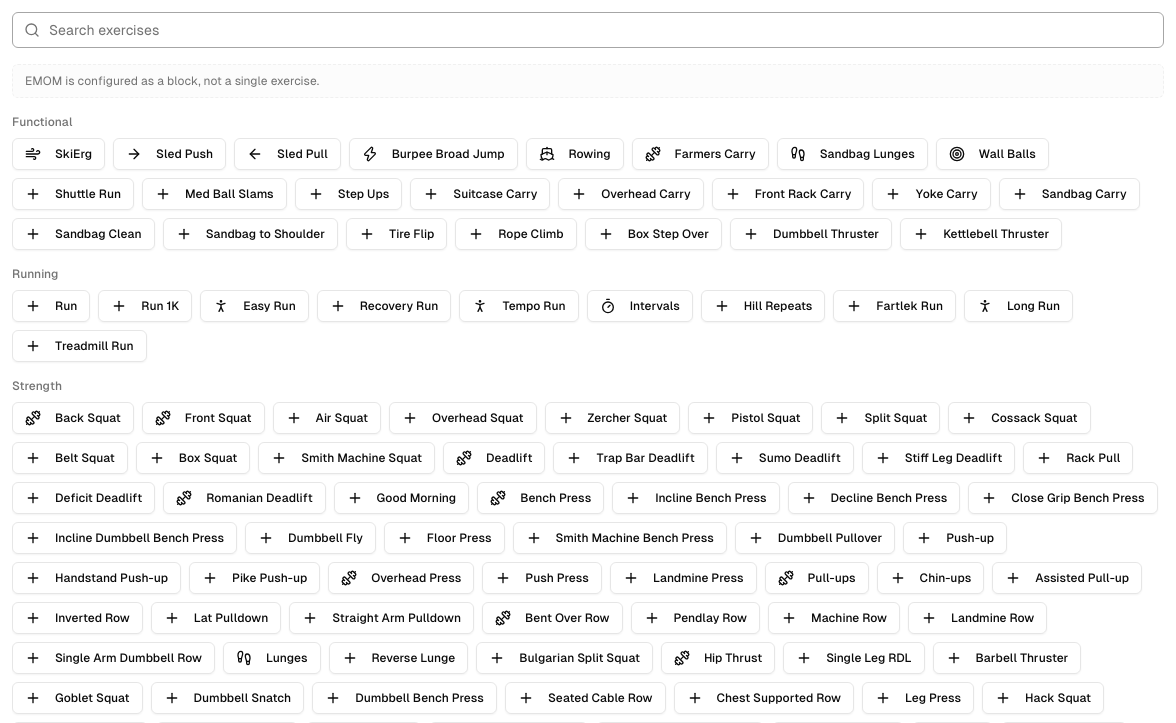
ExerciseSelector › clears search via the inline clear button
Step 1. Type "sled" into the search field labelled "Search exercises" → [588, 30], box [12,12,1164,48]
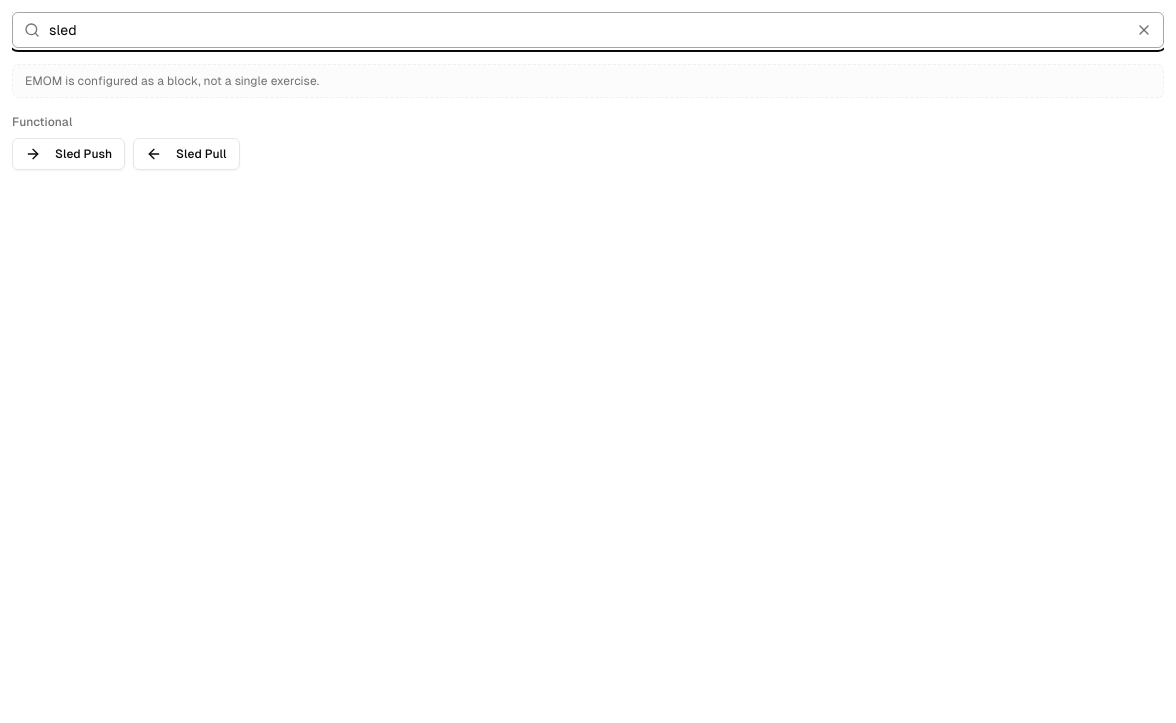
Result: the button with test id "exercise-selector-search-clear" is shown
Step 2. Click the button with test id "exercise-selector-search-clear" → [1144, 30], box [1136,22,1152,38]
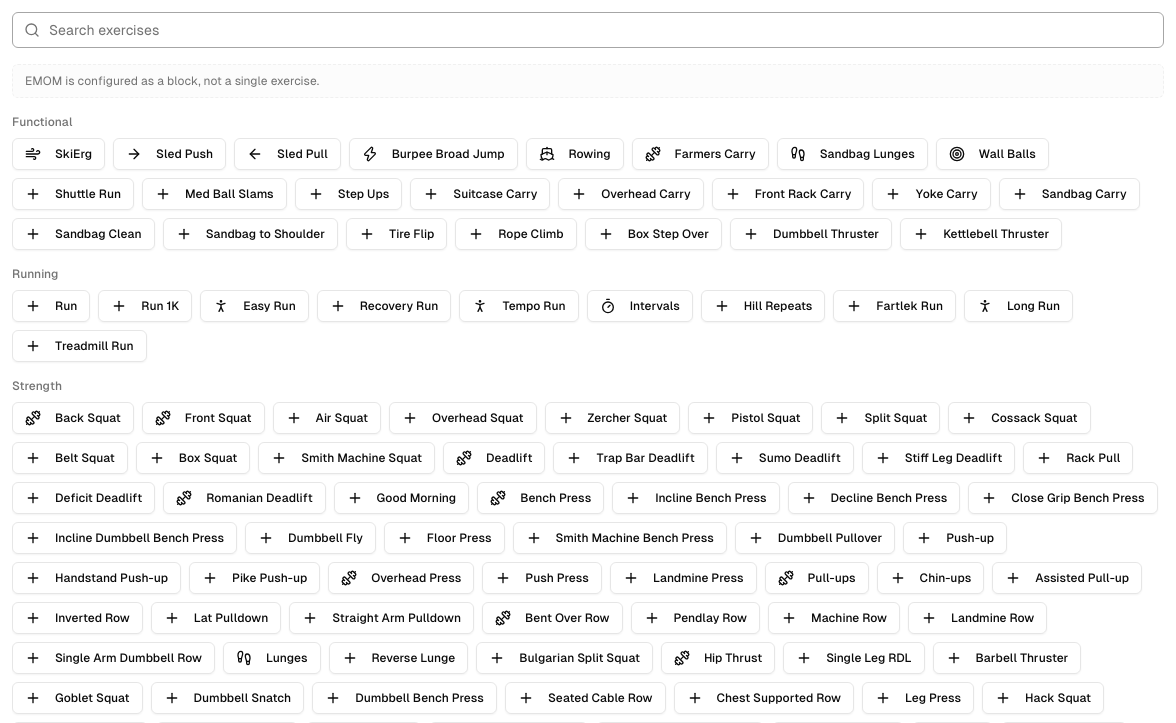
Result: the search field labelled "Search exercises" is empty at [12,12,1164,48]
Result: the button with test id "button-exercise-back_squat" is shown at [12,402,134,434]
